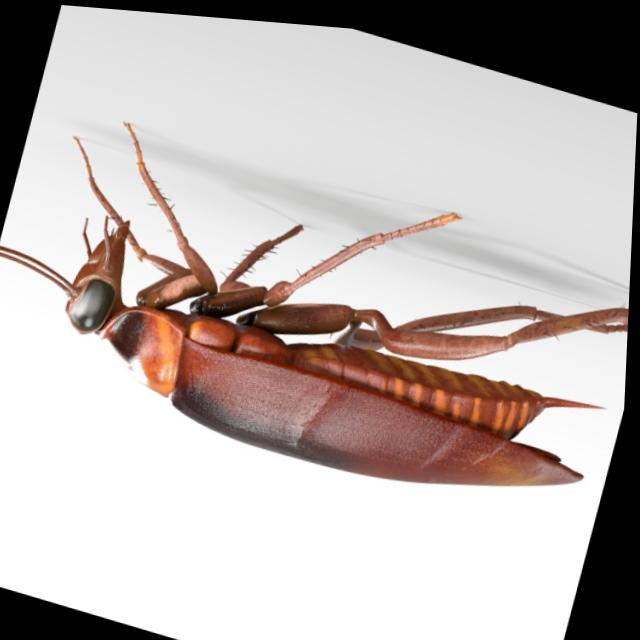Cockroach: (0, 75, 637, 546)
